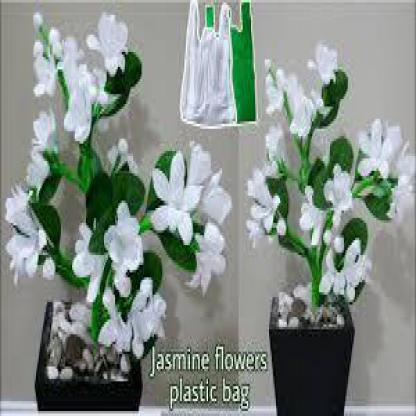Melati: (245, 137, 385, 318), (76, 216, 169, 365), (145, 147, 231, 281), (11, 93, 62, 301), (25, 11, 120, 120), (259, 36, 349, 125), (362, 95, 416, 236)
